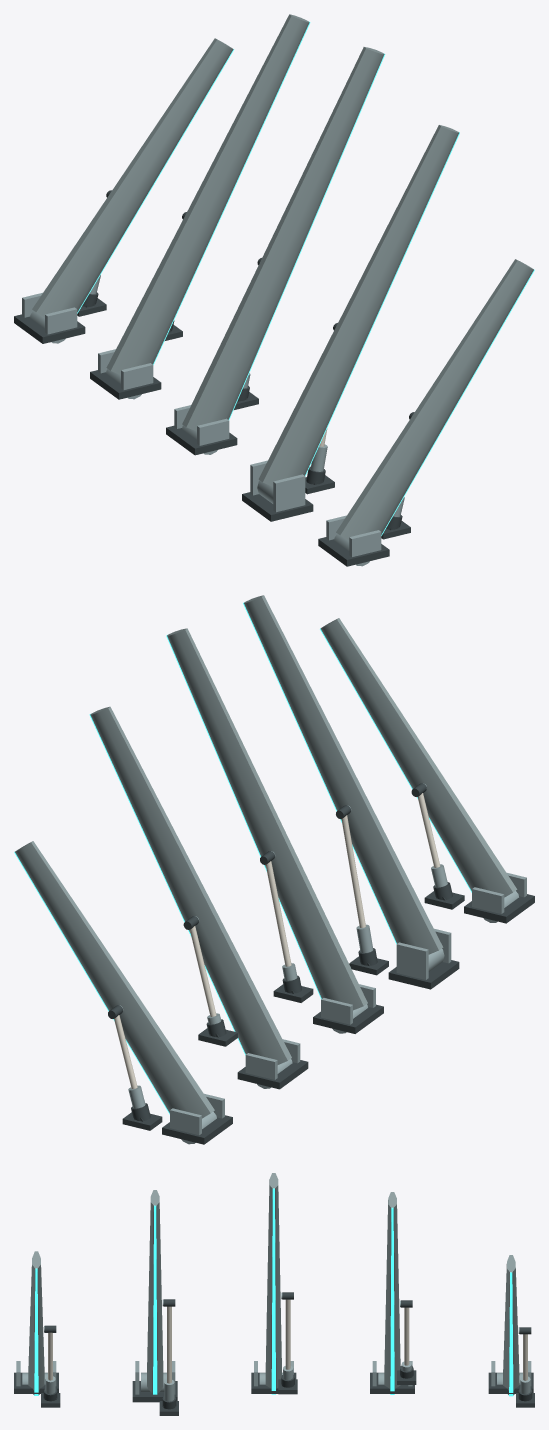
Rendered from Weather_Lung_Chunk_Vane_Bank.glb.
The picture shows the model from 3 angles, top to bottom: view 1: azimuth 30°, elevation 25°; view 2: azimuth 150°, elevation 25°; view 3: azimuth 270°, elevation 25°; orthographic projection. The views are drawn at different scales.
Parts seen in each view (by area): view 1: Movable_intake_vane_02, Movable_intake_vane_01, Movable_intake_vane_03, Vane_Bank_Dressing, Movable_intake_vane_00, Movable_intake_vane_04; view 2: Movable_intake_vane_02, Movable_intake_vane_01, Movable_intake_vane_03, Vane_Bank_Dressing, Movable_intake_vane_00, Movable_intake_vane_04, Vane_ram_rod_01, Vane_ram_rod_02, Vane_ram_rod_03; view 3: Vane_Bank_Dressing, Movable_intake_vane_02, Movable_intake_vane_01, Movable_intake_vane_03, Movable_intake_vane_00, Movable_intake_vane_04, Vane_leading_teal_02, Vane_leading_teal_01, Vane_leading_teal_03, Vane_leading_teal_00, Vane_leading_teal_04, Vane_ram_rod_02 (+2 smaller).
Part boxes in pixels (bbox=[...]): Movable_intake_vane_02: bbox=[182, 47, 384, 431]; Movable_intake_vane_01: bbox=[258, 125, 459, 486]; Movable_intake_vane_03: bbox=[106, 14, 309, 375]; Vane_Bank_Dressing: bbox=[14, 292, 410, 566]; Movable_intake_vane_00: bbox=[336, 259, 533, 540]; Movable_intake_vane_04: bbox=[32, 38, 233, 317]; Movable_intake_vane_02: bbox=[167, 628, 367, 1010]; Movable_intake_vane_01: bbox=[244, 595, 443, 954]; Movable_intake_vane_03: bbox=[90, 706, 291, 1064]; Vane_Bank_Dressing: bbox=[122, 873, 534, 1144]; Movable_intake_vane_00: bbox=[320, 618, 517, 897]; Movable_intake_vane_04: bbox=[15, 841, 214, 1118]; Vane_ram_rod_01: bbox=[341, 815, 365, 927]; Vane_ram_rod_02: bbox=[265, 861, 291, 966]; Vane_ram_rod_03: bbox=[190, 926, 216, 1016]; Vane_Bank_Dressing: bbox=[14, 1361, 534, 1415]; Movable_intake_vane_02: bbox=[265, 1173, 281, 1388]; Movable_intake_vane_01: bbox=[147, 1190, 163, 1393]; Movable_intake_vane_03: bbox=[384, 1192, 400, 1389]; Movable_intake_vane_00: bbox=[28, 1251, 44, 1394]; Movable_intake_vane_04: bbox=[503, 1255, 519, 1395]; Vane_leading_teal_02: bbox=[271, 1188, 275, 1394]; Vane_leading_teal_01: bbox=[153, 1205, 157, 1394]; Vane_leading_teal_03: bbox=[390, 1207, 394, 1394]; Vane_leading_teal_00: bbox=[34, 1268, 38, 1395]; Vane_leading_teal_04: bbox=[509, 1272, 513, 1396]; Vane_ram_rod_02: bbox=[285, 1299, 290, 1369].
Size of the model in its own units: 2222 by 3766 by 6255.
